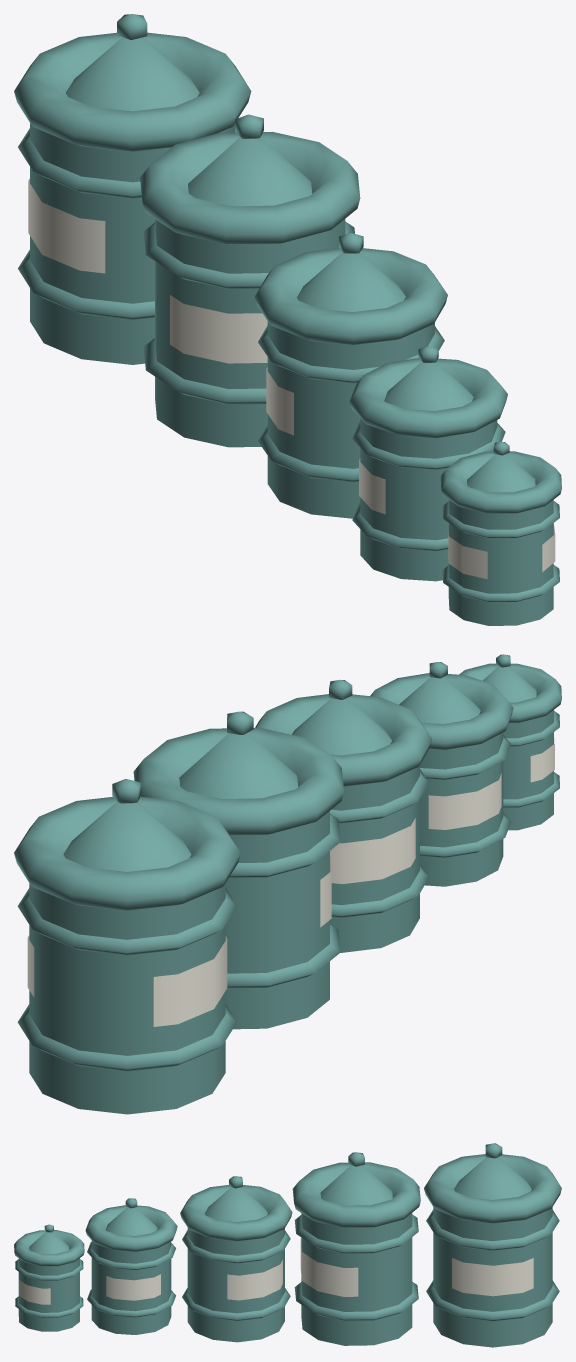
Rendered from GB_093_094_jars.glb.
3 views of the same model, one above another, from view 1: azimuth 30°, elevation 25°; view 2: azimuth 150°, elevation 25°; view 3: azimuth 270°, elevation 25° (orthographic). The views are drawn at different scales.
Visible parts, largest first — view 1: Jar, Jar.005, Jar.001, Jar.002, Jar.003; view 2: Jar, Jar.005, Jar.001, Jar.002, Jar.003; view 3: Jar, Jar.005, Jar.001, Jar.002, Jar.003, Label, Label.004, Label.003, Label.002, Label.001.
Part boxes in pixels (box(x1,y1,x2,y2)): Jar: box(14, 14, 251, 364); Jar.005: box(140, 114, 360, 447); Jar.001: box(254, 232, 447, 518); Jar.002: box(349, 346, 507, 581); Jar.003: box(440, 441, 561, 625); Jar: box(14, 779, 240, 1114); Jar.005: box(133, 711, 343, 1029); Jar.001: box(255, 679, 432, 952); Jar.002: box(370, 662, 513, 886); Jar.003: box(459, 654, 561, 830); Jar: box(424, 1143, 561, 1347); Jar.005: box(292, 1152, 420, 1345); Jar.001: box(180, 1176, 292, 1342); Jar.002: box(85, 1198, 177, 1334); Jar.003: box(14, 1224, 84, 1331); Label: box(452, 1258, 533, 1296); Label.004: box(301, 1248, 358, 1296); Label.003: box(227, 1259, 282, 1300); Label.002: box(106, 1274, 160, 1300); Label.001: box(19, 1280, 50, 1304).
Size of the model in its own units: 0.5274 by 0.7538 by 2.09.
